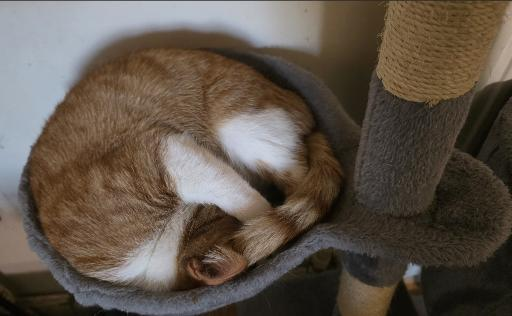cat_sleeping: (29, 48, 345, 292)
